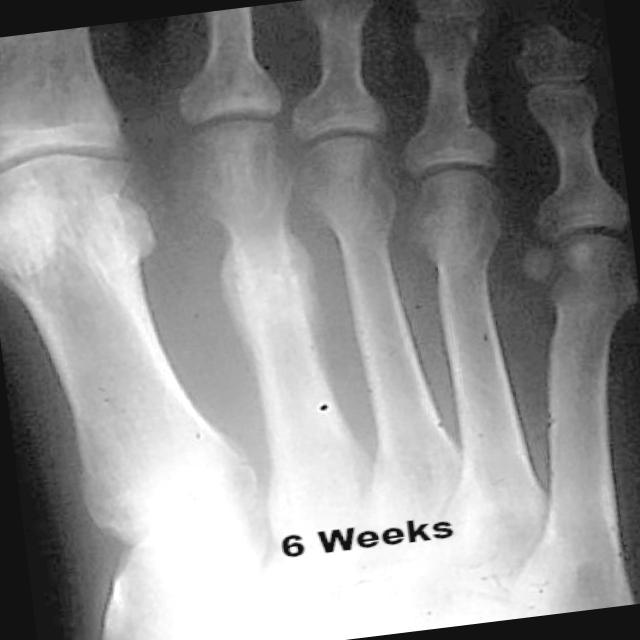HairLine Fracture: (214, 234, 312, 321)
